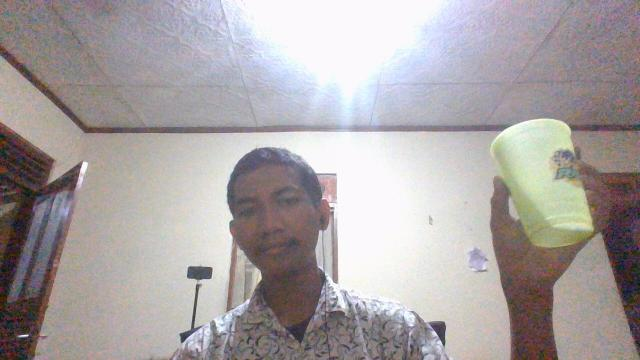botol-hijau: (488, 117, 596, 249)
